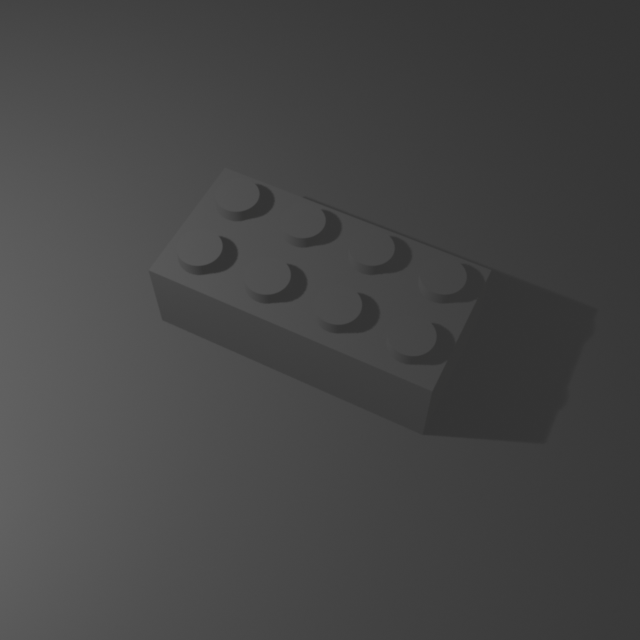lego_2x4: (146, 158, 494, 435)
